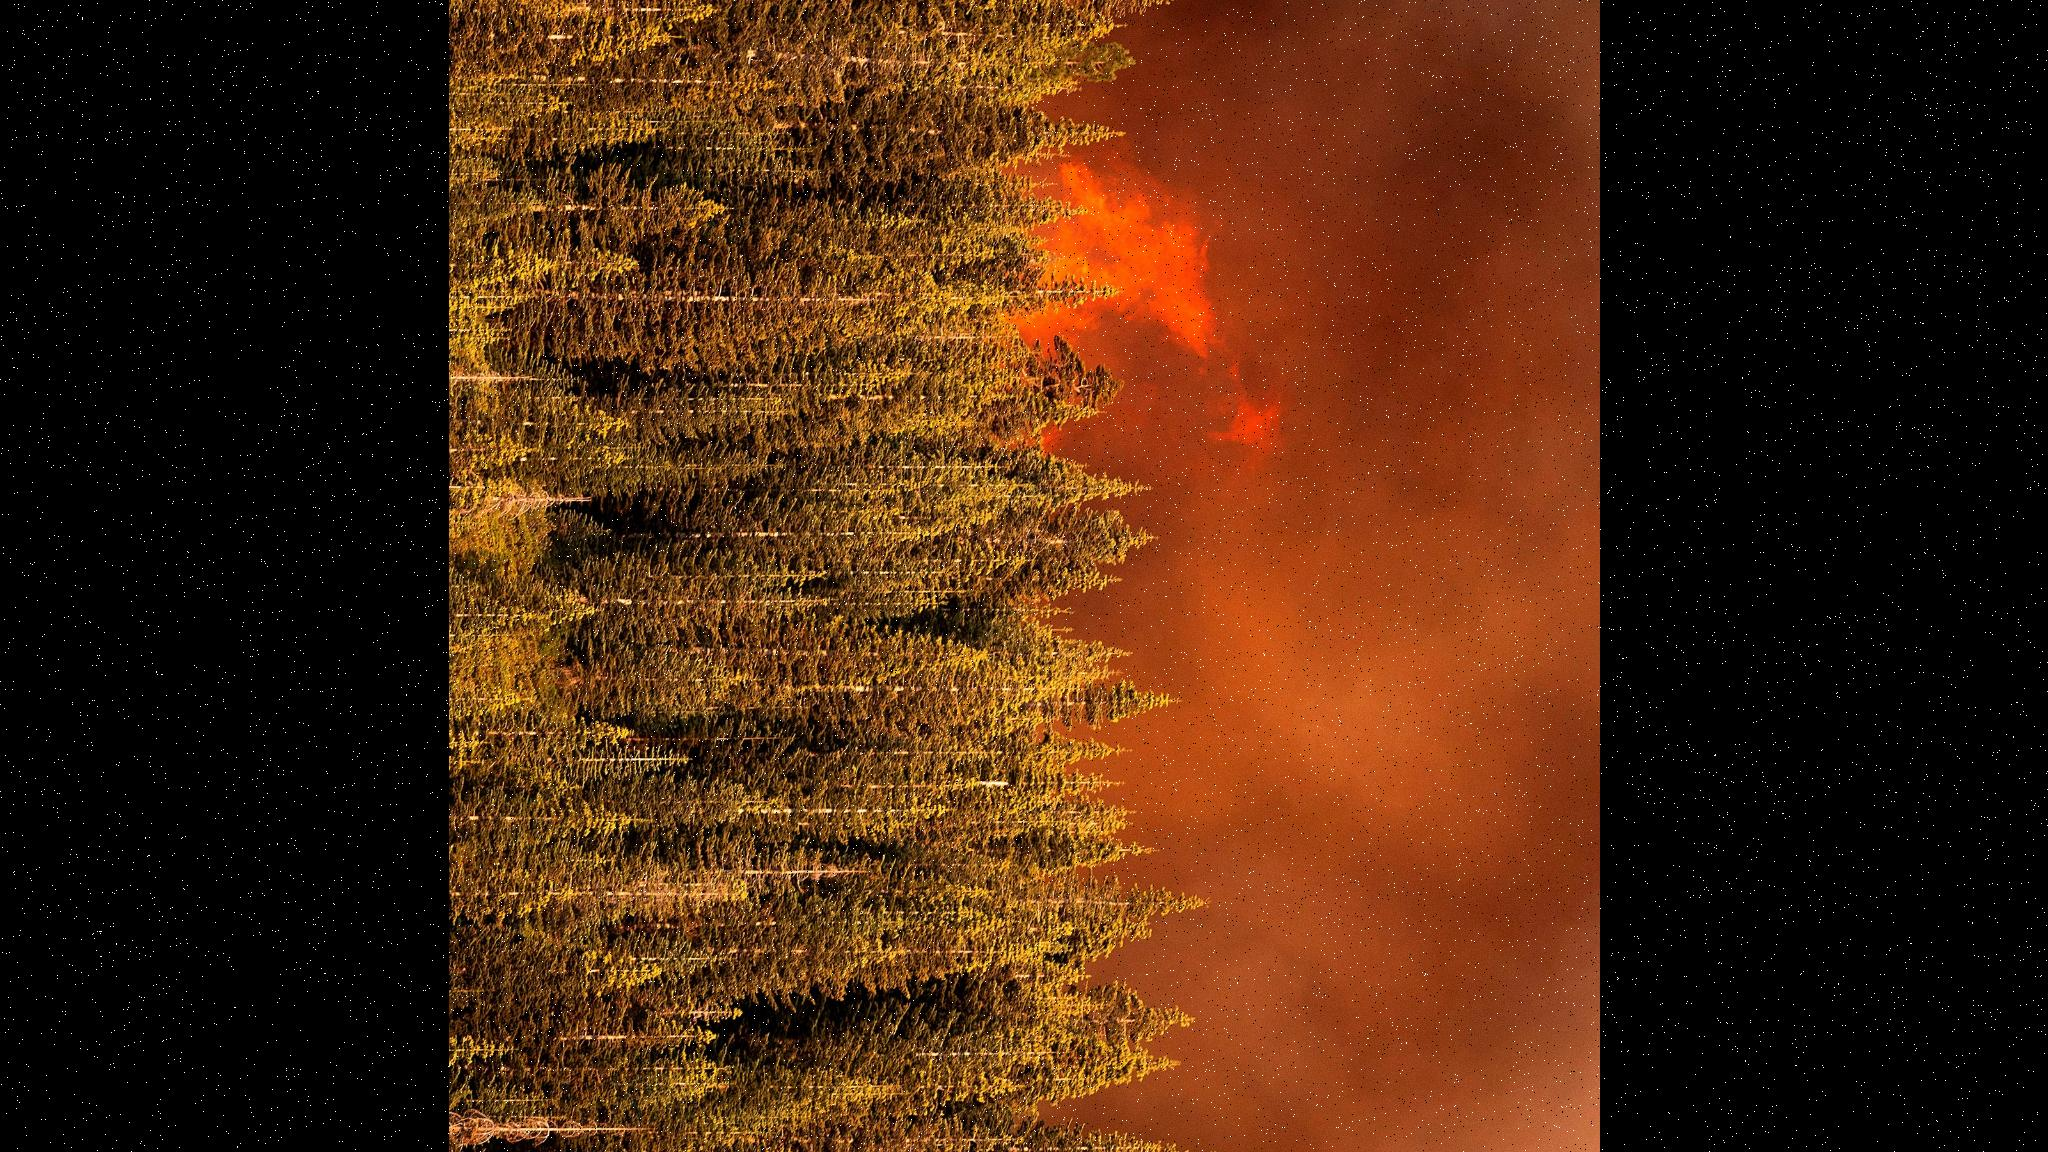fire: (980, 90, 1304, 491)
